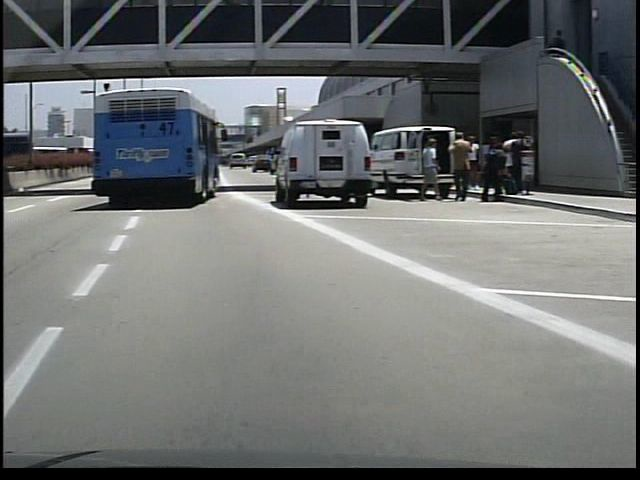person: (443, 130, 469, 204), (414, 133, 438, 201)
